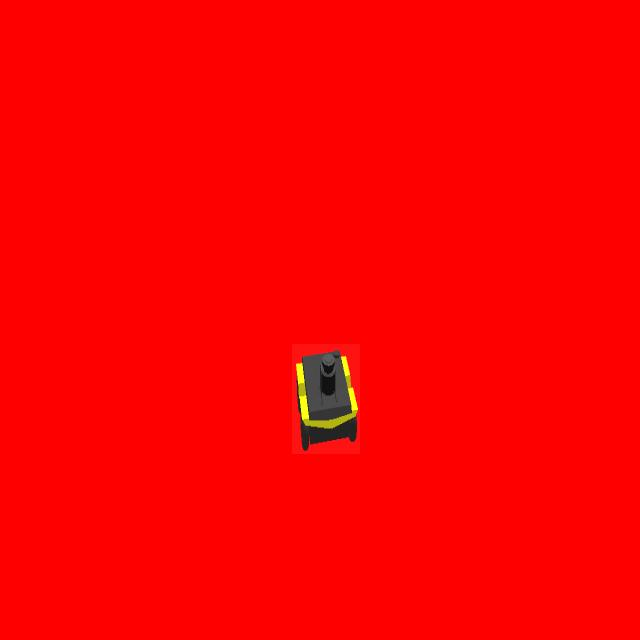jackal: (292, 344, 360, 454)
